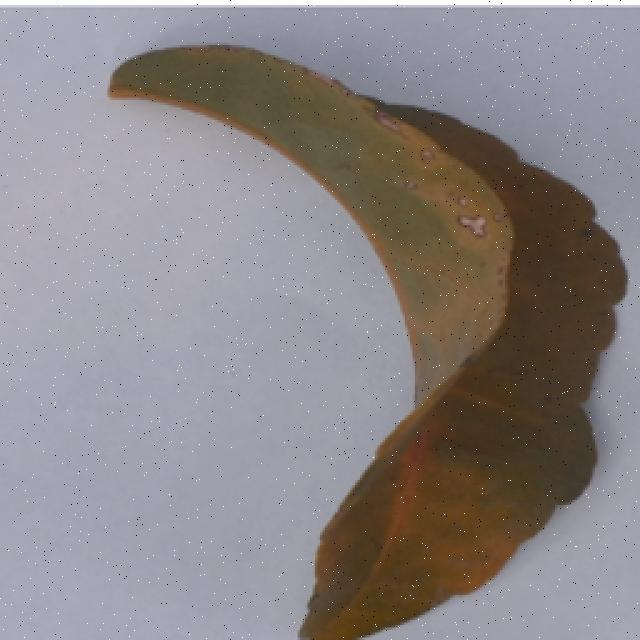greening: (87, 31, 631, 637)
